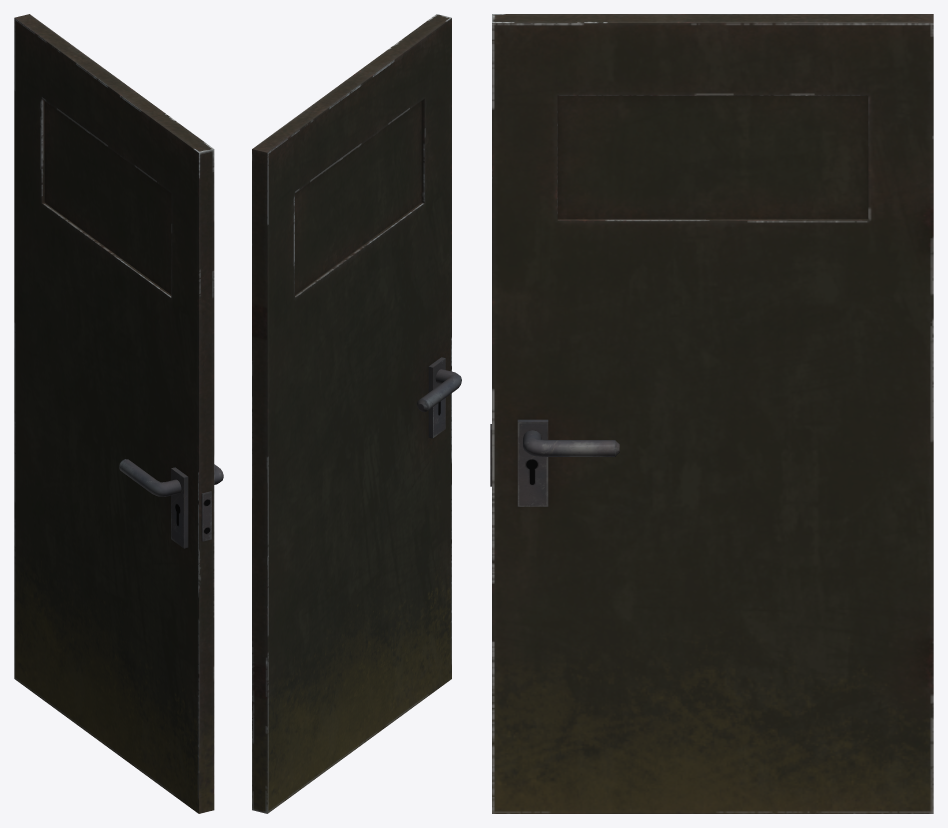
The model's file is StaffRoomDoor.fbx.
3 views of the same model, side by side, from view 1: azimuth 30°, elevation 25°; view 2: azimuth 150°, elevation 25°; view 3: azimuth 270°, elevation 25° (orthographic). The views are drawn at different scales.
Visible parts, largest first — view 1: door, handle; view 2: door, handle; view 3: door, handle.
Boxes of the visible parts, x1,y1,x2,y2 form: door: [14, 14, 214, 813]; handle: [119, 459, 223, 496]; door: [252, 14, 451, 813]; handle: [417, 369, 461, 412]; door: [490, 14, 933, 813]; handle: [523, 430, 619, 456].
Size of the model in its own units: 26.85 by 236 by 120.
